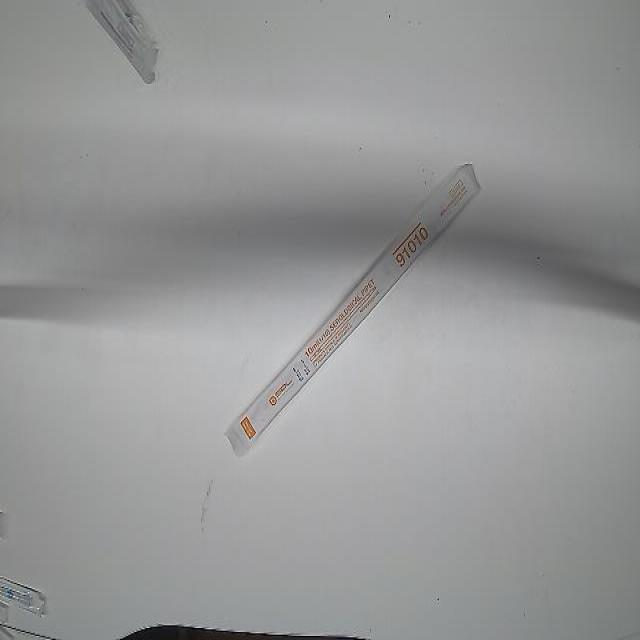Serelogical Pipet 10 mL: (224, 162, 485, 460)
